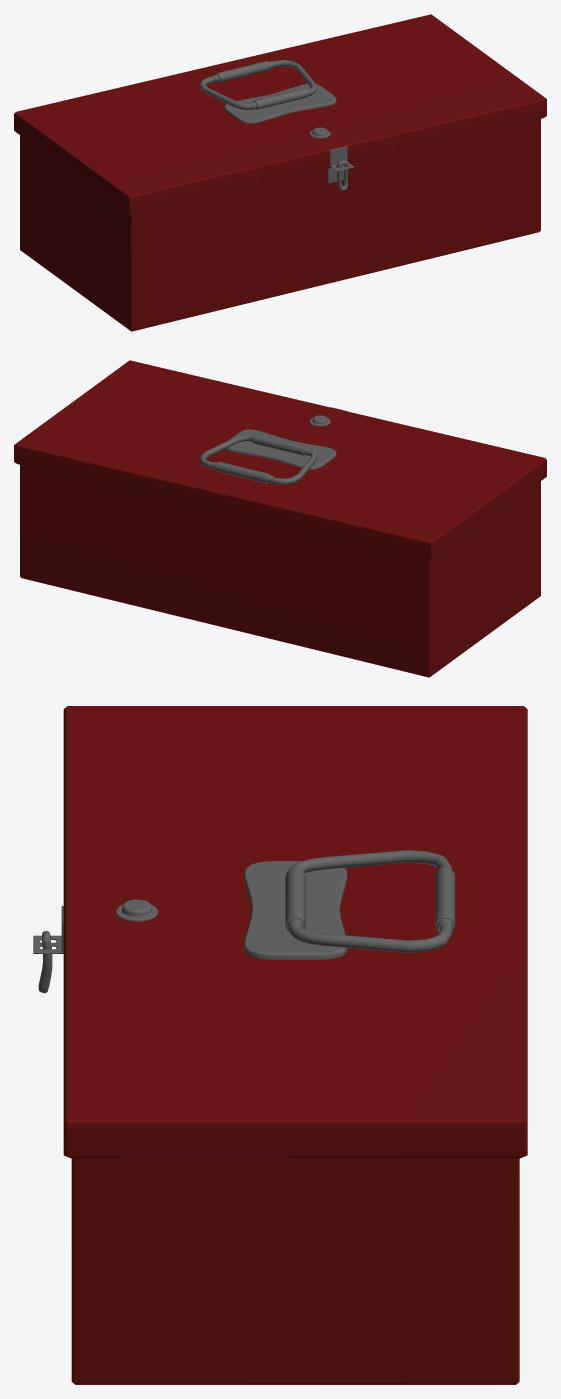
The model's file is SeanElstonToolboxclosedFinal.fbx.
The picture shows the model from 3 angles, top to bottom: view 1: azimuth 30°, elevation 25°; view 2: azimuth 150°, elevation 25°; view 3: azimuth 270°, elevation 25°; orthographic projection. The views are drawn at different scales.
Visible parts, largest first — view 1: Toolboxclosed; view 2: Toolboxclosed; view 3: Toolboxclosed.
Part boxes in pixels (<box>): Toolboxclosed: <box>14,14,546,331</box>; Toolboxclosed: <box>14,360,546,677</box>; Toolboxclosed: <box>33,706,527,1384</box>.
Size of the model in its own units: 60.73 by 20.36 by 31.04.
